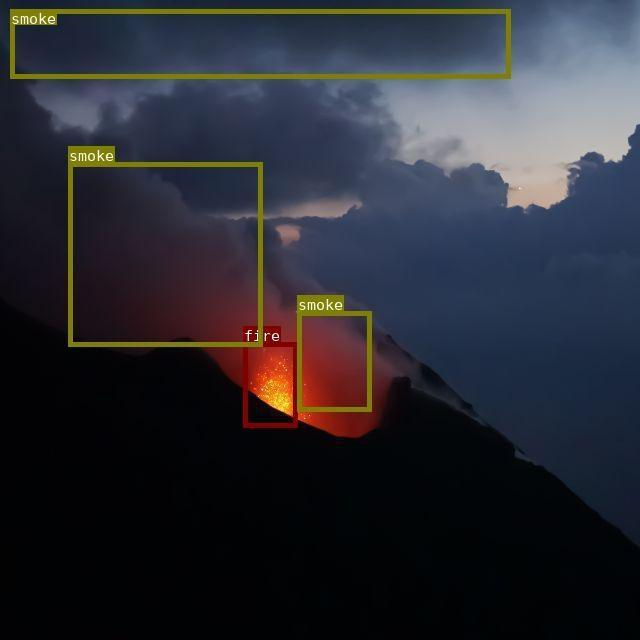fire: (243, 342, 297, 426)
smoke: (67, 161, 262, 346), (10, 8, 510, 78), (297, 311, 370, 411)
